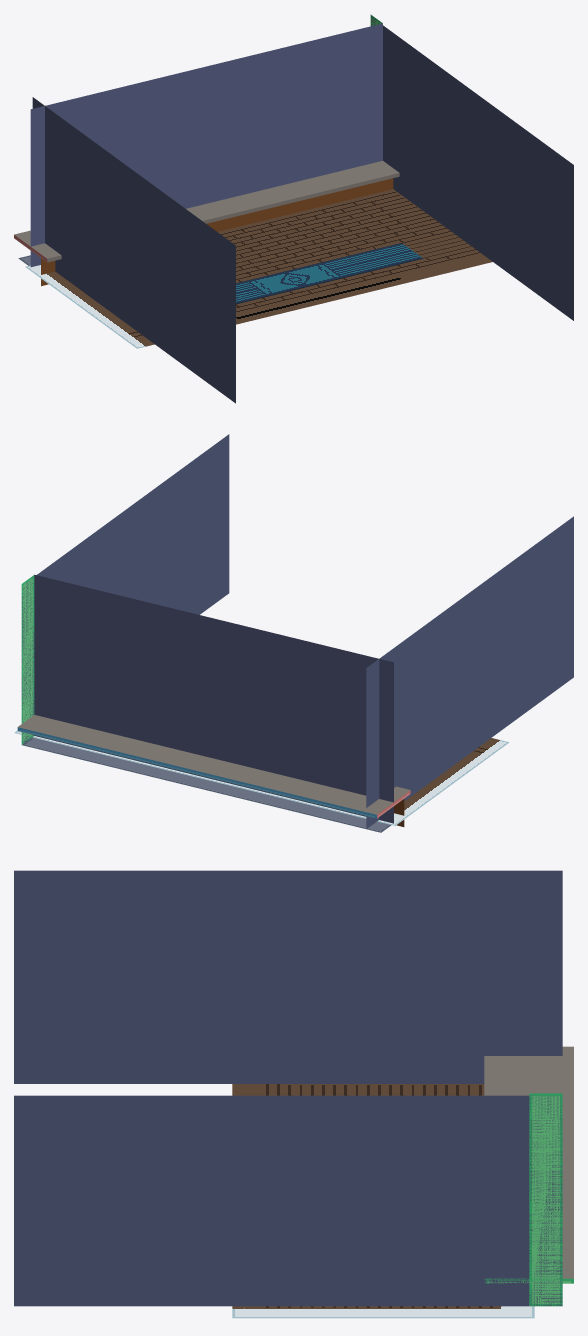
The model's file is Battle_scene.gltf.
3 views of the same model, one above another, from view 1: azimuth 30°, elevation 25°; view 2: azimuth 150°, elevation 25°; view 3: azimuth 270°, elevation 25° (orthographic). The views are drawn at different scales.
Visible parts, largest first — view 1: cuboid (×3), wall, plane, counter (×2); view 2: wall, cuboid (×2), counter, plane; view 3: cuboid (×2), wall, plane, counter.
Boxes of the visible parts, x1,y1,x2,y2 form: cuboid (×3): (32,16,573,403); wall: (18,14,382,267); plane: (25,189,492,348); counter (×2): (14,161,399,286); wall: (21,574,393,832); cuboid (×2): (21,434,573,828); counter: (17,715,410,818); plane: (14,730,509,825); cuboid (×2): (14,870,562,1306); wall: (529,1093,562,1306); plane: (232,1084,534,1318); counter: (484,1046,573,1283).
Size of the model in its own units: 6.5 by 2.81 by 6.25.
1 material, 1 textured.
